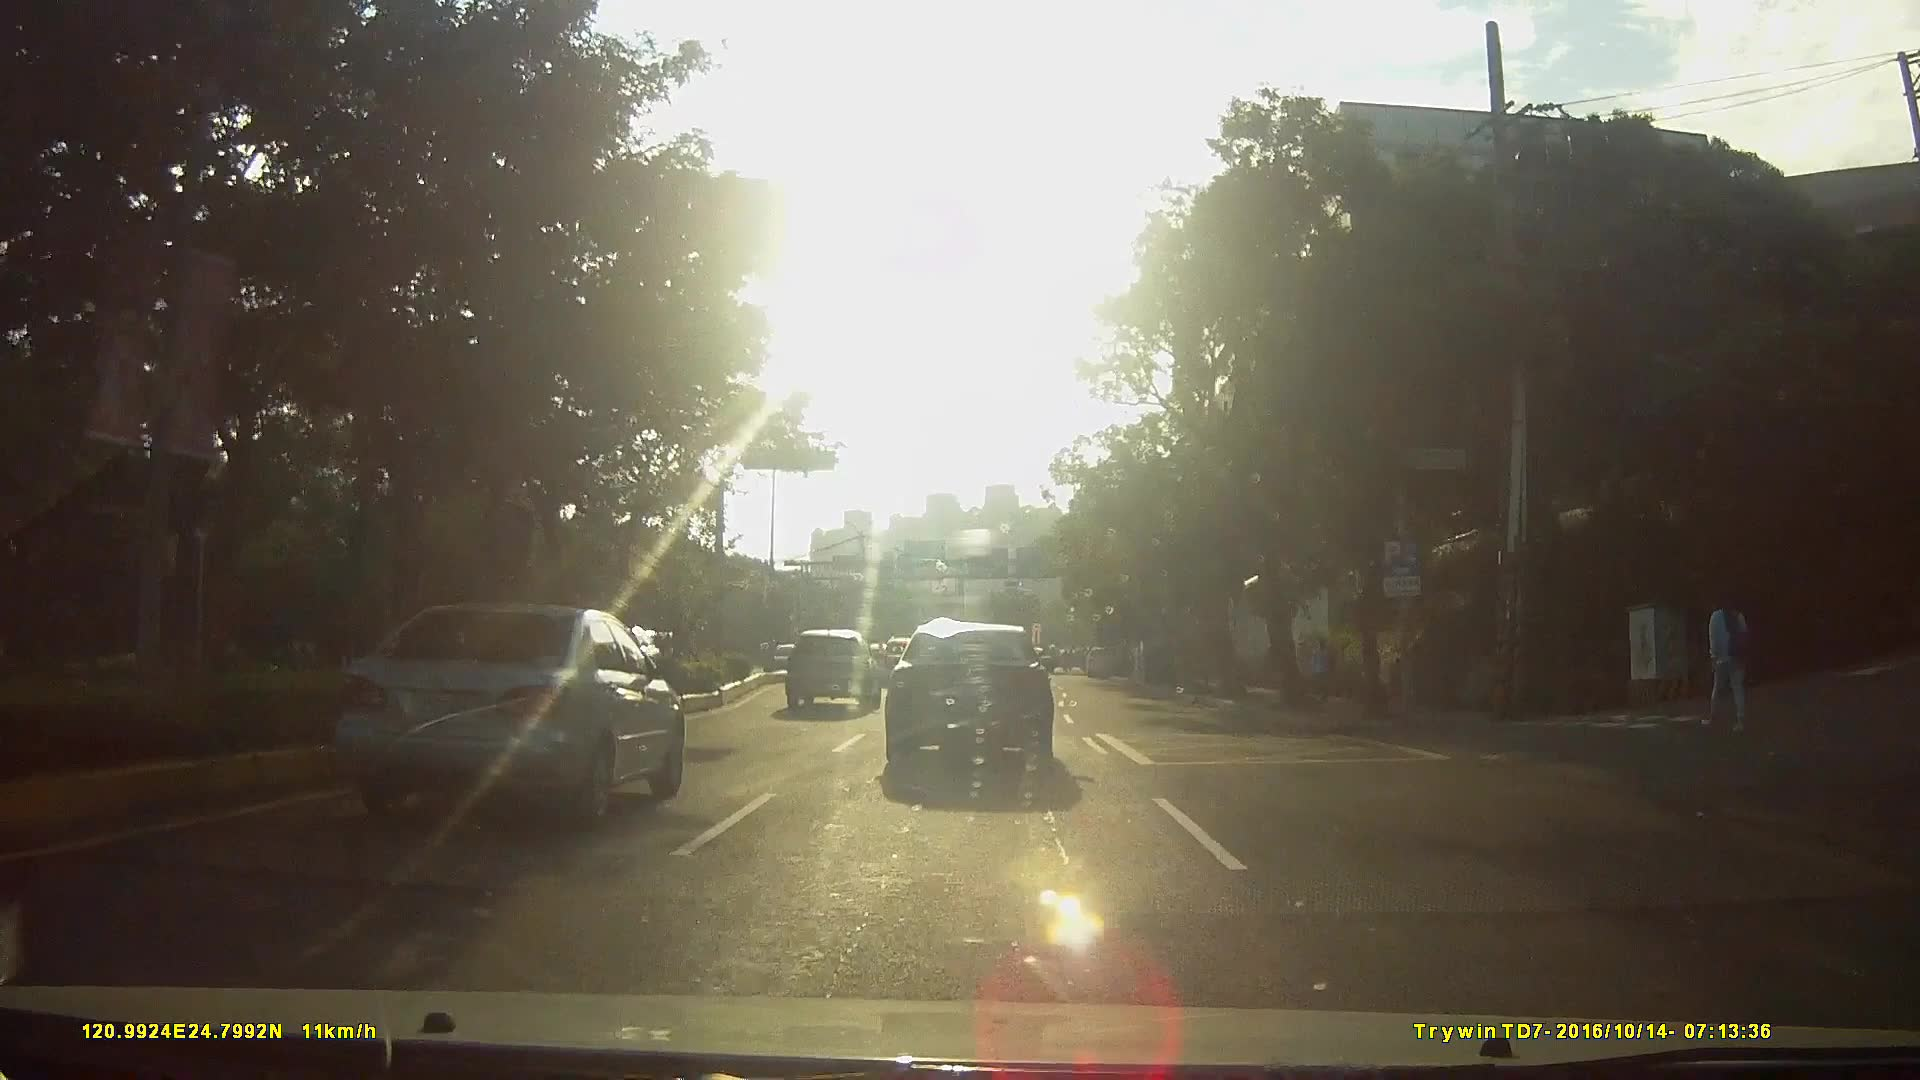pedestrian: (1699, 578, 1761, 737)
vehicle: (338, 599, 685, 821), (872, 617, 1067, 780), (780, 624, 880, 709), (753, 640, 795, 672), (1079, 643, 1114, 677)
